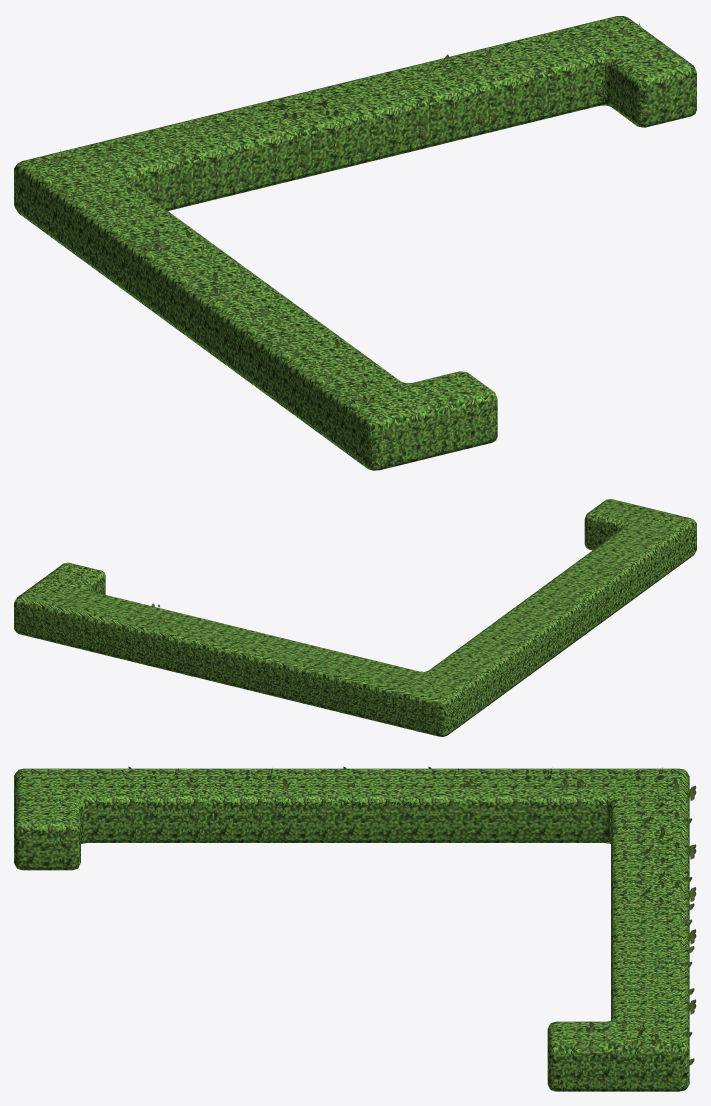
The model's file is RC_Bush_03.gltf.
The picture shows the model from 3 angles, top to bottom: view 1: azimuth 30°, elevation 25°; view 2: azimuth 150°, elevation 25°; view 3: azimuth 270°, elevation 25°; orthographic projection. The views are drawn at different scales.
Visible parts, largest first — view 1: RC_Bush_03(Clone); view 2: RC_Bush_03(Clone); view 3: RC_Bush_03(Clone).
Part boxes in pixels (<box>): RC_Bush_03(Clone): <box>14,16,696,470</box>; RC_Bush_03(Clone): <box>14,499,696,736</box>; RC_Bush_03(Clone): <box>14,766,696,1091</box>.
Size of the model in its own units: 12.7 by 1.19 by 12.81.
Materials: 2 (2 with a texture image).
